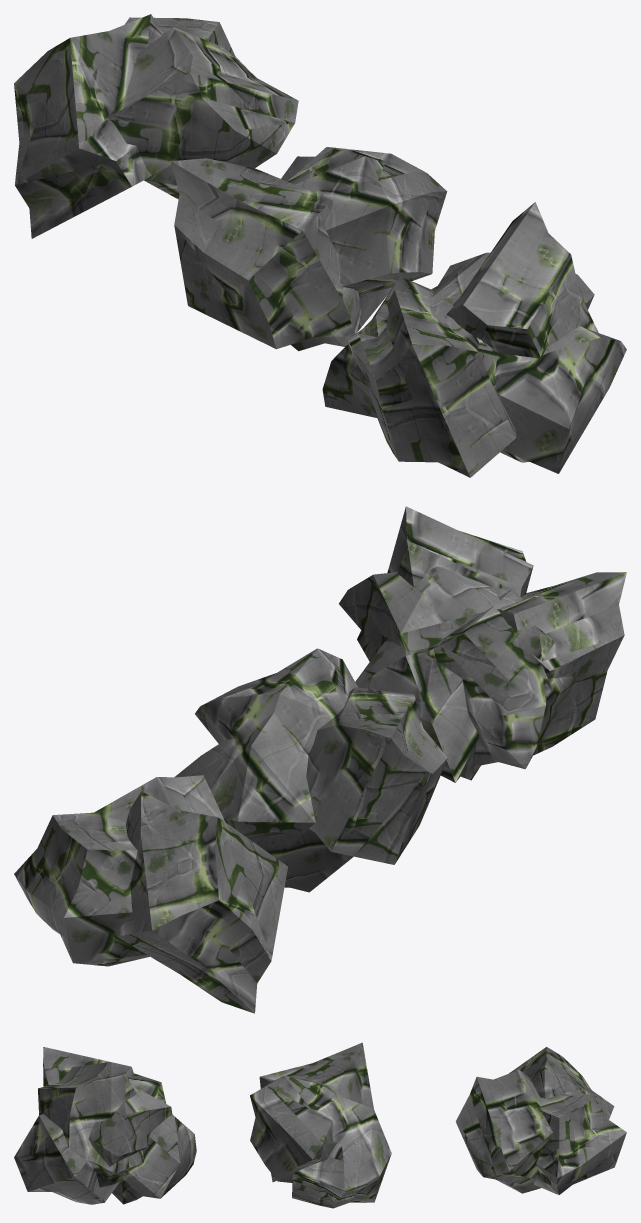
The model's file is Rocks.obj.
The picture shows the model from 3 angles, top to bottom: view 1: azimuth 30°, elevation 25°; view 2: azimuth 150°, elevation 25°; view 3: azimuth 270°, elevation 25°; orthographic projection. The views are drawn at different scales.
Parts seen in each view (by area): view 1: Rock2, Rock1, Rock; view 2: Rock2, Rock, Rock1; view 3: Rock2, Rock, Rock1.
Boxes of the visible parts, bbox=[...] form: Rock2: bbox=[322, 202, 626, 477]; Rock1: bbox=[171, 147, 447, 351]; Rock: bbox=[14, 14, 298, 238]; Rock2: bbox=[339, 506, 626, 782]; Rock: bbox=[14, 775, 287, 1013]; Rock1: bbox=[174, 648, 447, 892]; Rock2: bbox=[14, 1047, 196, 1204]; Rock: bbox=[455, 1047, 626, 1194]; Rock1: bbox=[250, 1042, 391, 1208].
Size of the model in its own units: 4.47 by 4.27 by 14.05.
Materials: 1 (1 with a texture image).
